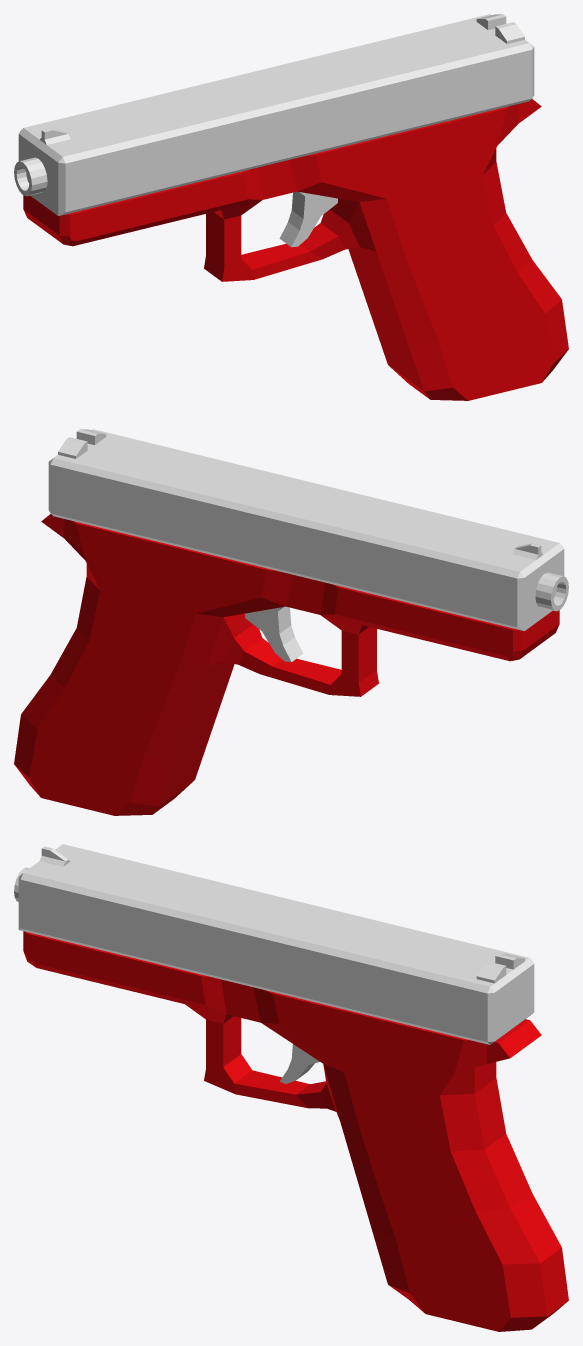
Rendered from Glock.fbx.
The picture shows the model from 3 angles, top to bottom: view 1: azimuth 30°, elevation 25°; view 2: azimuth 150°, elevation 25°; view 3: azimuth 330°, elevation 25°; orthographic projection.
Parts seen in each view (by area): view 1: Glock; view 2: Glock; view 3: Glock.
Part boxes in pixels (<box>): Glock: <box>14,14,568,400</box>; Glock: <box>14,429,568,815</box>; Glock: <box>14,844,568,1331</box>.
Size of the model in its own units: 31.33 by 19.71 by 4.55.
